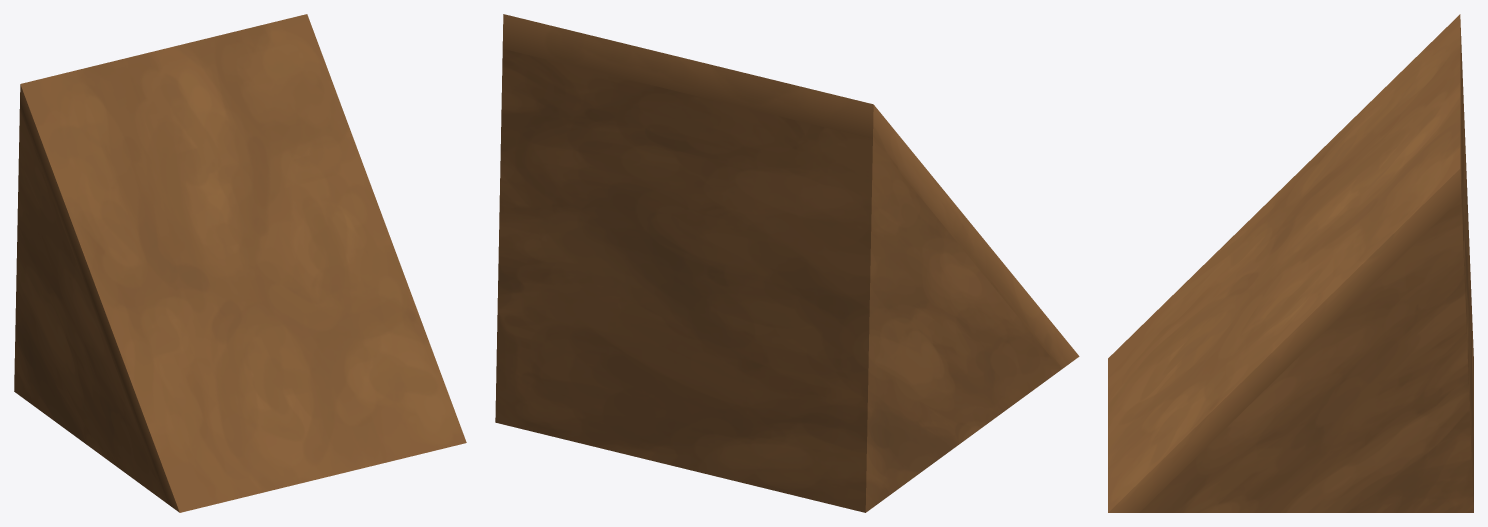
File: Tile_Ramp1A.fbx
The picture shows the model from 3 angles, left to right: view 1: azimuth 30°, elevation 25°; view 2: azimuth 150°, elevation 25°; view 3: azimuth 270°, elevation 25°; orthographic projection. The views are drawn at different scales.
Parts seen in each view (by area): view 1: polySurface1879; view 2: polySurface1879; view 3: polySurface1879.
Boxes of the visible parts, x1,y1,x2,y2 form: polySurface1879: [14, 14, 466, 512]; polySurface1879: [495, 14, 1079, 512]; polySurface1879: [1108, 14, 1473, 512].
Size of the model in its own units: 100 by 104 by 100.
Materials: 1 (1 with a texture image).
